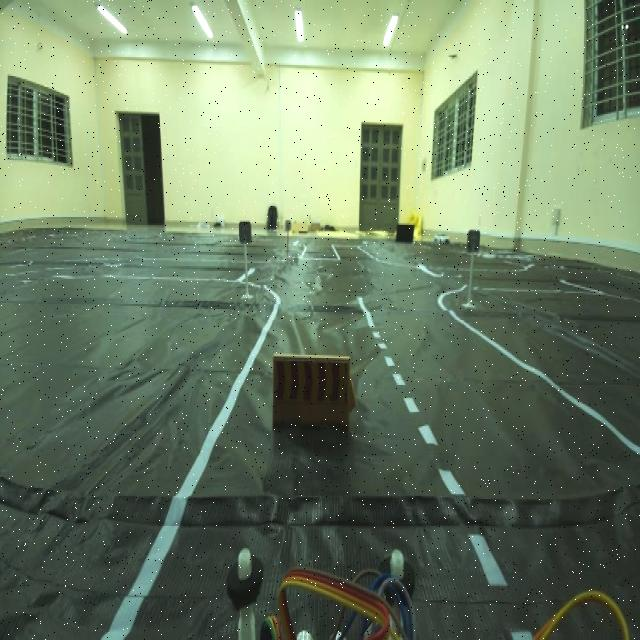roadblock: (265, 340, 366, 466)
